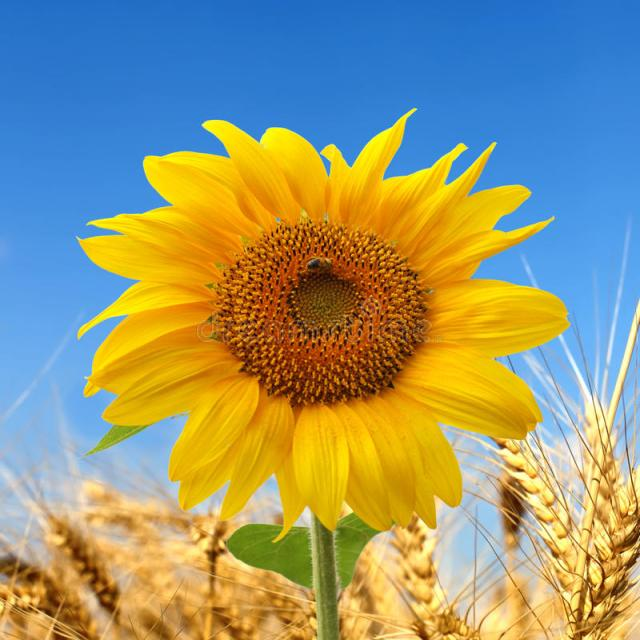sunflower: (71, 104, 576, 540)
